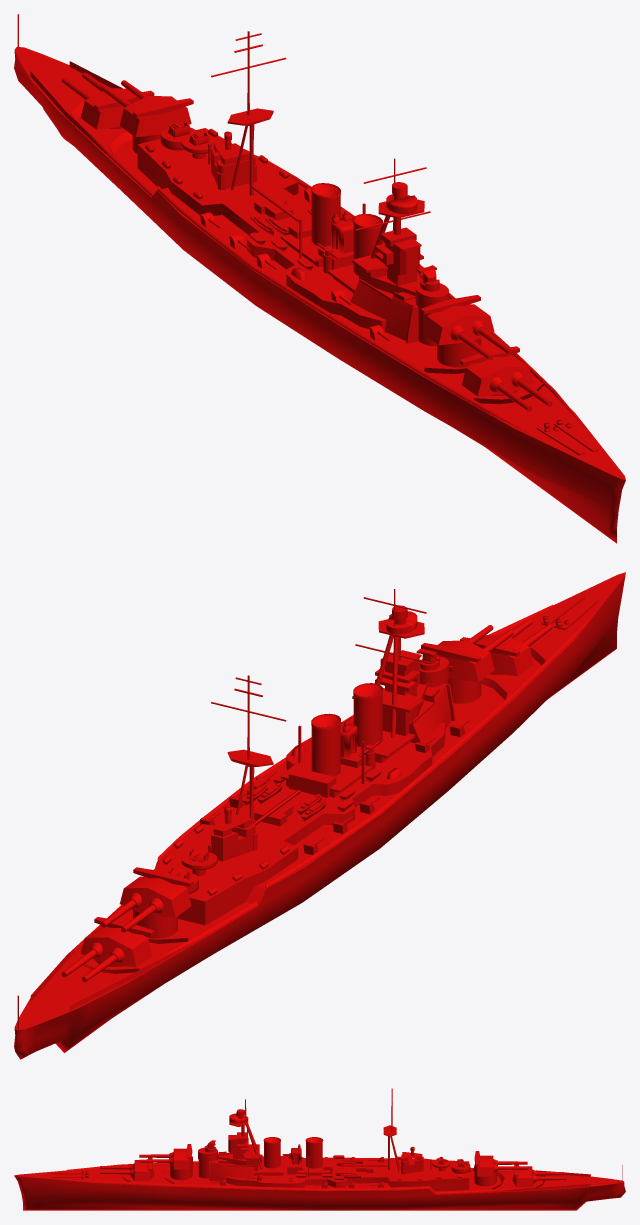
File: MilitaryBoat.fbx
3 views of the same model, one above another, from view 1: azimuth 30°, elevation 25°; view 2: azimuth 150°, elevation 25°; view 3: azimuth 270°, elevation 25° (orthographic). The views are drawn at different scales.
Visible parts, largest first — view 1: polySurface16; view 2: polySurface16; view 3: polySurface16.
Part boxes in pixels (x1,y1,x2,y2): polySurface16: [14, 14, 625, 543]; polySurface16: [14, 572, 625, 1059]; polySurface16: [14, 1088, 625, 1210].
Bounding box in the file's own units: 1.97 × 3.53 × 16.13.
